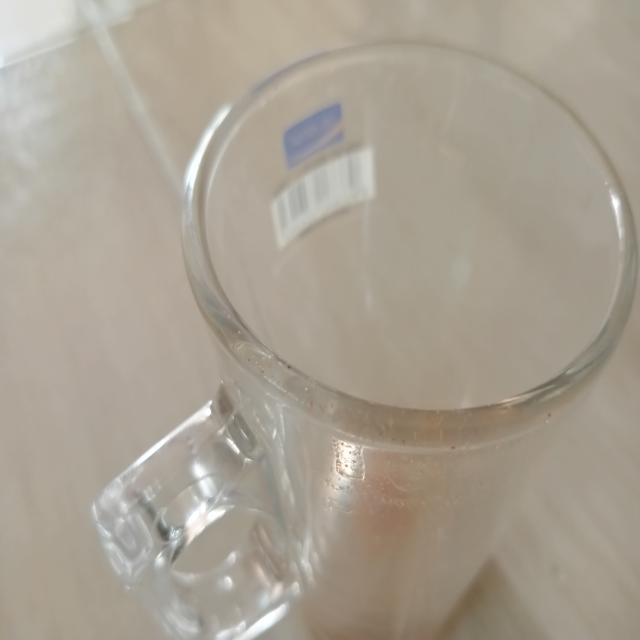glass-VX4N: (91, 39, 640, 640)
